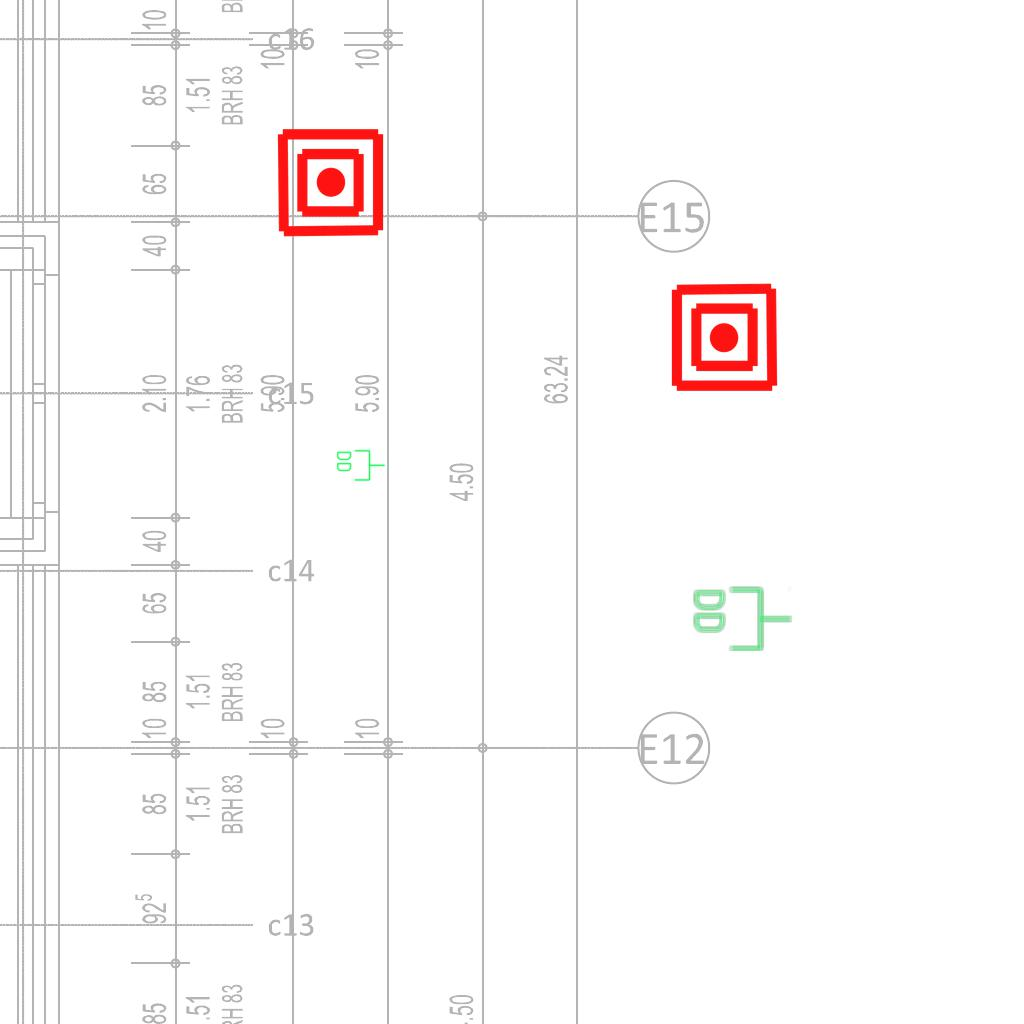Datenanschluss_zweifach: (691, 584, 794, 653), (335, 448, 386, 482)
NAM-Nichtautomatischer_Melder: (274, 126, 387, 239), (668, 281, 781, 394)
